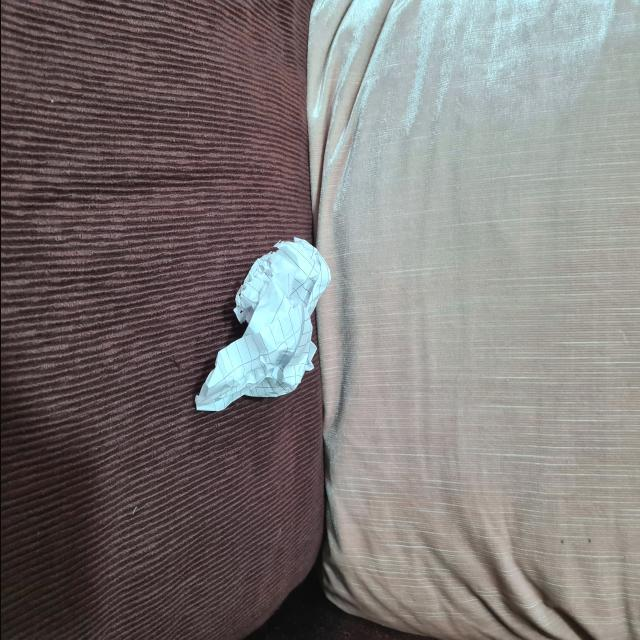Paper: (201, 226, 329, 434)
